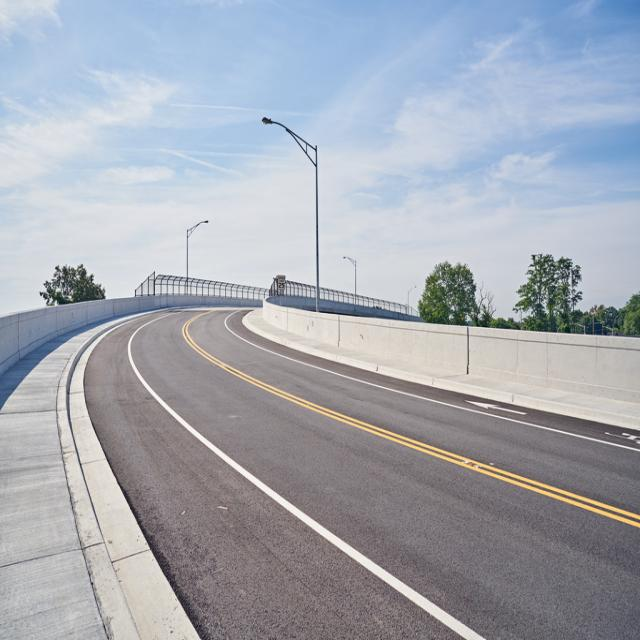Clean road: (0, 239, 640, 640)
